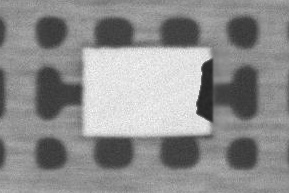DIE_BROKEN: (194, 53, 215, 127)
